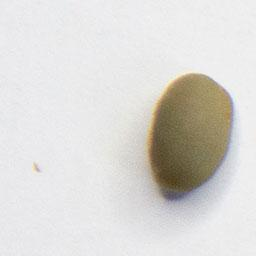peaberry: (145, 70, 236, 197)
